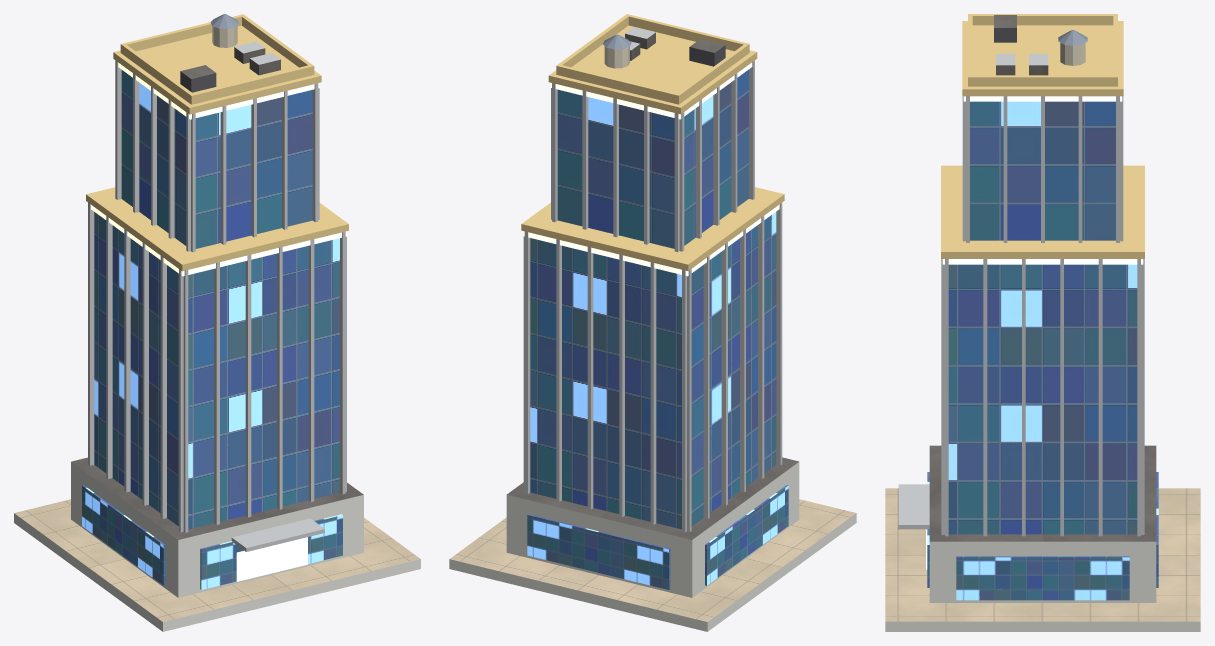
File: dev_3_highrise_L3.glb
The picture shows the model from 3 angles, left to right: view 1: azimuth 30°, elevation 25°; view 2: azimuth 150°, elevation 25°; view 3: azimuth 270°, elevation 25°; orthographic projection. The views are drawn at different scales.
Parts seen in each view (by area): view 1: dev_3_highrise_L3__facade_glass, dev_3_highrise_L3__steel, dev_3_highrise_L3__gold, dev_3_highrise_L3__white, dev_3_highrise_L3__paving_warm, dev_3_highrise_L3__roof, dev_3_highrise_L3__trim_glow, dev_3_highrise_L3__window_glow; view 2: dev_3_highrise_L3__facade_glass, dev_3_highrise_L3__steel, dev_3_highrise_L3__gold, dev_3_highrise_L3__white, dev_3_highrise_L3__paving_warm, dev_3_highrise_L3__roof, dev_3_highrise_L3__trim_glow; view 3: dev_3_highrise_L3__facade_glass, dev_3_highrise_L3__gold, dev_3_highrise_L3__steel, dev_3_highrise_L3__paving_warm, dev_3_highrise_L3__white, dev_3_highrise_L3__roof, dev_3_highrise_L3__trim_glow, dev_3_highrise_L3__wood.
Boxes of the visible parts, x1,y1,x2,y2 form: dev_3_highrise_L3__facade_glass: (82, 70, 342, 589); dev_3_highrise_L3__steel: (88, 41, 346, 551); dev_3_highrise_L3__gold: (86, 14, 348, 271); dev_3_highrise_L3__white: (14, 462, 420, 631); dev_3_highrise_L3__paving_warm: (14, 499, 420, 621); dev_3_highrise_L3__roof: (71, 47, 363, 539); dev_3_highrise_L3__trim_glow: (91, 62, 346, 276); dev_3_highrise_L3__window_glow: (236, 537, 307, 581); dev_3_highrise_L3__facade_glass: (527, 69, 788, 589); dev_3_highrise_L3__steel: (523, 27, 782, 532); dev_3_highrise_L3__gold: (521, 14, 784, 270); dev_3_highrise_L3__white: (449, 462, 856, 631); dev_3_highrise_L3__paving_warm: (450, 499, 855, 621); dev_3_highrise_L3__roof: (507, 32, 798, 539); dev_3_highrise_L3__trim_glow: (523, 60, 782, 276); dev_3_highrise_L3__facade_glass: (927, 101, 1158, 600); dev_3_highrise_L3__gold: (941, 14, 1144, 258); dev_3_highrise_L3__steel: (898, 54, 1144, 536); dev_3_highrise_L3__paving_warm: (885, 488, 1200, 621); dev_3_highrise_L3__white: (885, 541, 1200, 631); dev_3_highrise_L3__roof: (929, 15, 1156, 541); dev_3_highrise_L3__trim_glow: (942, 96, 1143, 264); dev_3_highrise_L3__wood: (1060, 43, 1085, 65).
Bounding box in the file's own units: 0.82 × 1.57 × 0.82.
Materials: 11 (3 with a texture image).
